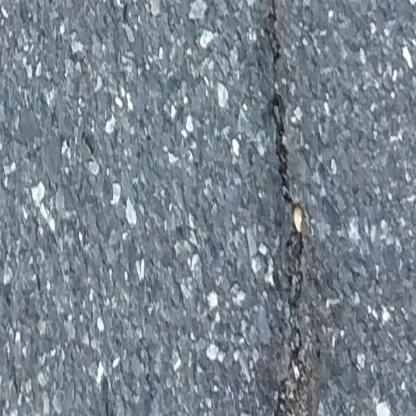Cracks: (258, 0, 313, 416)
